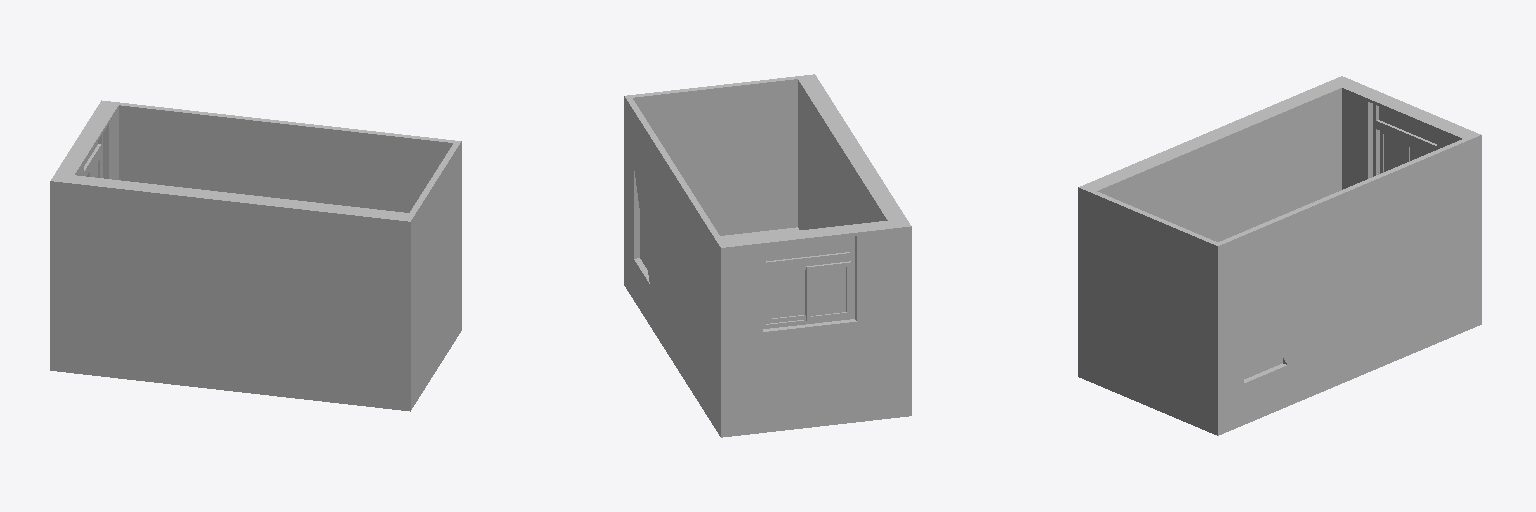
3 views of the same model, side by side, from view 1: azimuth 30°, elevation 25°; view 2: azimuth 150°, elevation 25°; view 3: azimuth 270°, elevation 25° (orthographic).
Parts seen in each view (by area): view 1: Mesh3 Group3 Model, Mesh1 Group1 Model, Mesh4 Group4 Model, Mesh2 Group2 Model; view 2: Mesh3 Group3 Model, Mesh4 Group4 Model, Mesh1 Group1 Model, Mesh2 Group2 Model, Mesh10 Glazing3 Window_Sliding_Casement_14_1 Window_Sliding_7_1 , Mesh7 Glazing1 Window_Sliding_Casement_14 Window_Sliding_7_1 Gro, Mesh5 Window_Sliding_Main_Frame_7 Window_Sliding_7_1 Group5 Mode, Mesh14 Glazing5 Window_Fixed_2_1 Group5 Model, Mesh11 Window_Sliding_Casement_14_1 Window_Sliding_7_1 Group5 Mo, Mesh12 Window_Fixed_Main_Frame_2 Window_Fixed_2_1 Group5 Model, Mesh8 Window_Sliding_Casement_14 Window_Sliding_7_1 Group5 Model; view 3: Mesh1 Group1 Model, Mesh3 Group3 Model, Mesh4 Group4 Model, Mesh2 Group2 Model, Mesh13 Glazing4 Window_Fixed_2_1 Group5 Model, Mesh9 Glazing2 Window_Sliding_Casement_14_1 Window_Sliding_7_1 G, Mesh5 Window_Sliding_Main_Frame_7 Window_Sliding_7_1 Group5 Mode.
Part boxes in pixels (left/top/right/bottom): Mesh3 Group3 Model: left=50, top=100, right=415, bottom=411; Mesh1 Group1 Model: left=119, top=103, right=461, bottom=290; Mesh4 Group4 Model: left=410, top=143, right=459, bottom=360; Mesh2 Group2 Model: left=416, top=290, right=461, bottom=401; Mesh3 Group3 Model: left=716, top=74, right=911, bottom=437; Mesh4 Group4 Model: left=631, top=76, right=797, bottom=235; Mesh1 Group1 Model: left=624, top=95, right=721, bottom=387; Mesh2 Group2 Model: left=624, top=227, right=799, bottom=428; Mesh10 Glazing3 Window_Sliding_Casement_14_1 Window_Sliding_7_1 : left=811, top=267, right=845, bottom=315; Mesh7 Glazing1 Window_Sliding_Casement_14 Window_Sliding_7_1 Gro: left=770, top=270, right=804, bottom=318; Mesh5 Window_Sliding_Main_Frame_7 Window_Sliding_7_1 Group5 Mode: left=763, top=256, right=854, bottom=328; Mesh14 Glazing5 Window_Fixed_2_1 Group5 Model: left=766, top=238, right=849, bottom=260; Mesh11 Window_Sliding_Casement_14_1 Window_Sliding_7_1 Group5 Mo: left=806, top=261, right=850, bottom=320; Mesh12 Window_Fixed_Main_Frame_2 Window_Fixed_2_1 Group5 Model: left=763, top=236, right=854, bottom=266; Mesh8 Window_Sliding_Casement_14 Window_Sliding_7_1 Group5 Model: left=766, top=266, right=805, bottom=323; Mesh1 Group1 Model: left=1213, top=139, right=1467, bottom=393; Mesh3 Group3 Model: left=1078, top=76, right=1481, bottom=382; Mesh4 Group4 Model: left=1092, top=191, right=1217, bottom=391; Mesh2 Group2 Model: left=1092, top=289, right=1467, bottom=435; Mesh13 Glazing4 Window_Fixed_2_1 Group5 Model: left=1379, top=107, right=1436, bottom=143; Mesh9 Glazing2 Window_Sliding_Casement_14_1 Window_Sliding_7_1 G: left=1384, top=134, right=1405, bottom=171; Mesh5 Window_Sliding_Main_Frame_7 Window_Sliding_7_1 Group5 Mode: left=1373, top=122, right=1435, bottom=176.
Size of the model in its own units: 6.17 by 3.2 by 6.17.